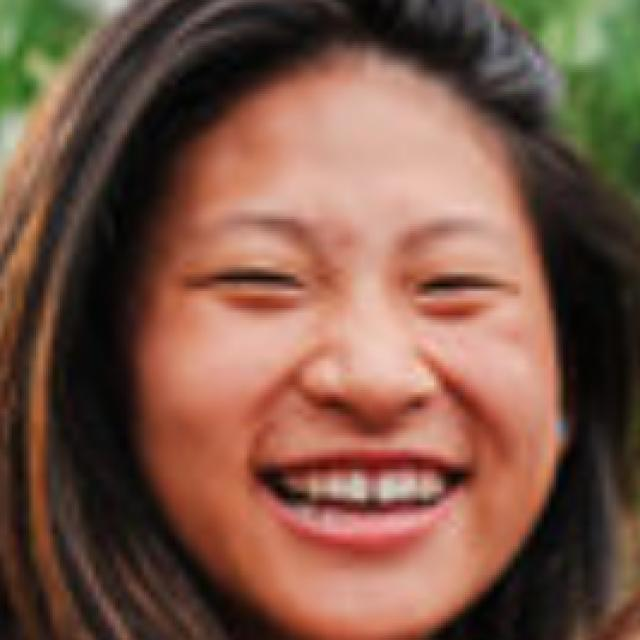close: (159, 199, 335, 317), (388, 204, 532, 322)
